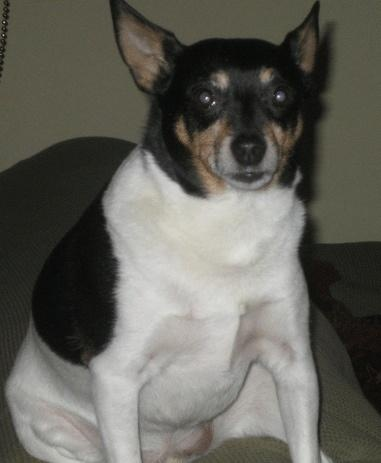dog: (11, 2, 331, 463)
